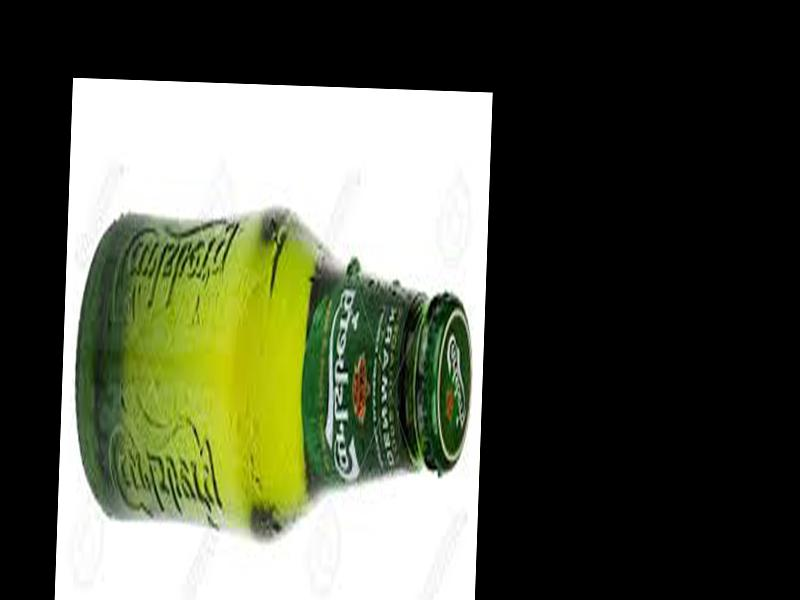Beer: (68, 204, 477, 550)
